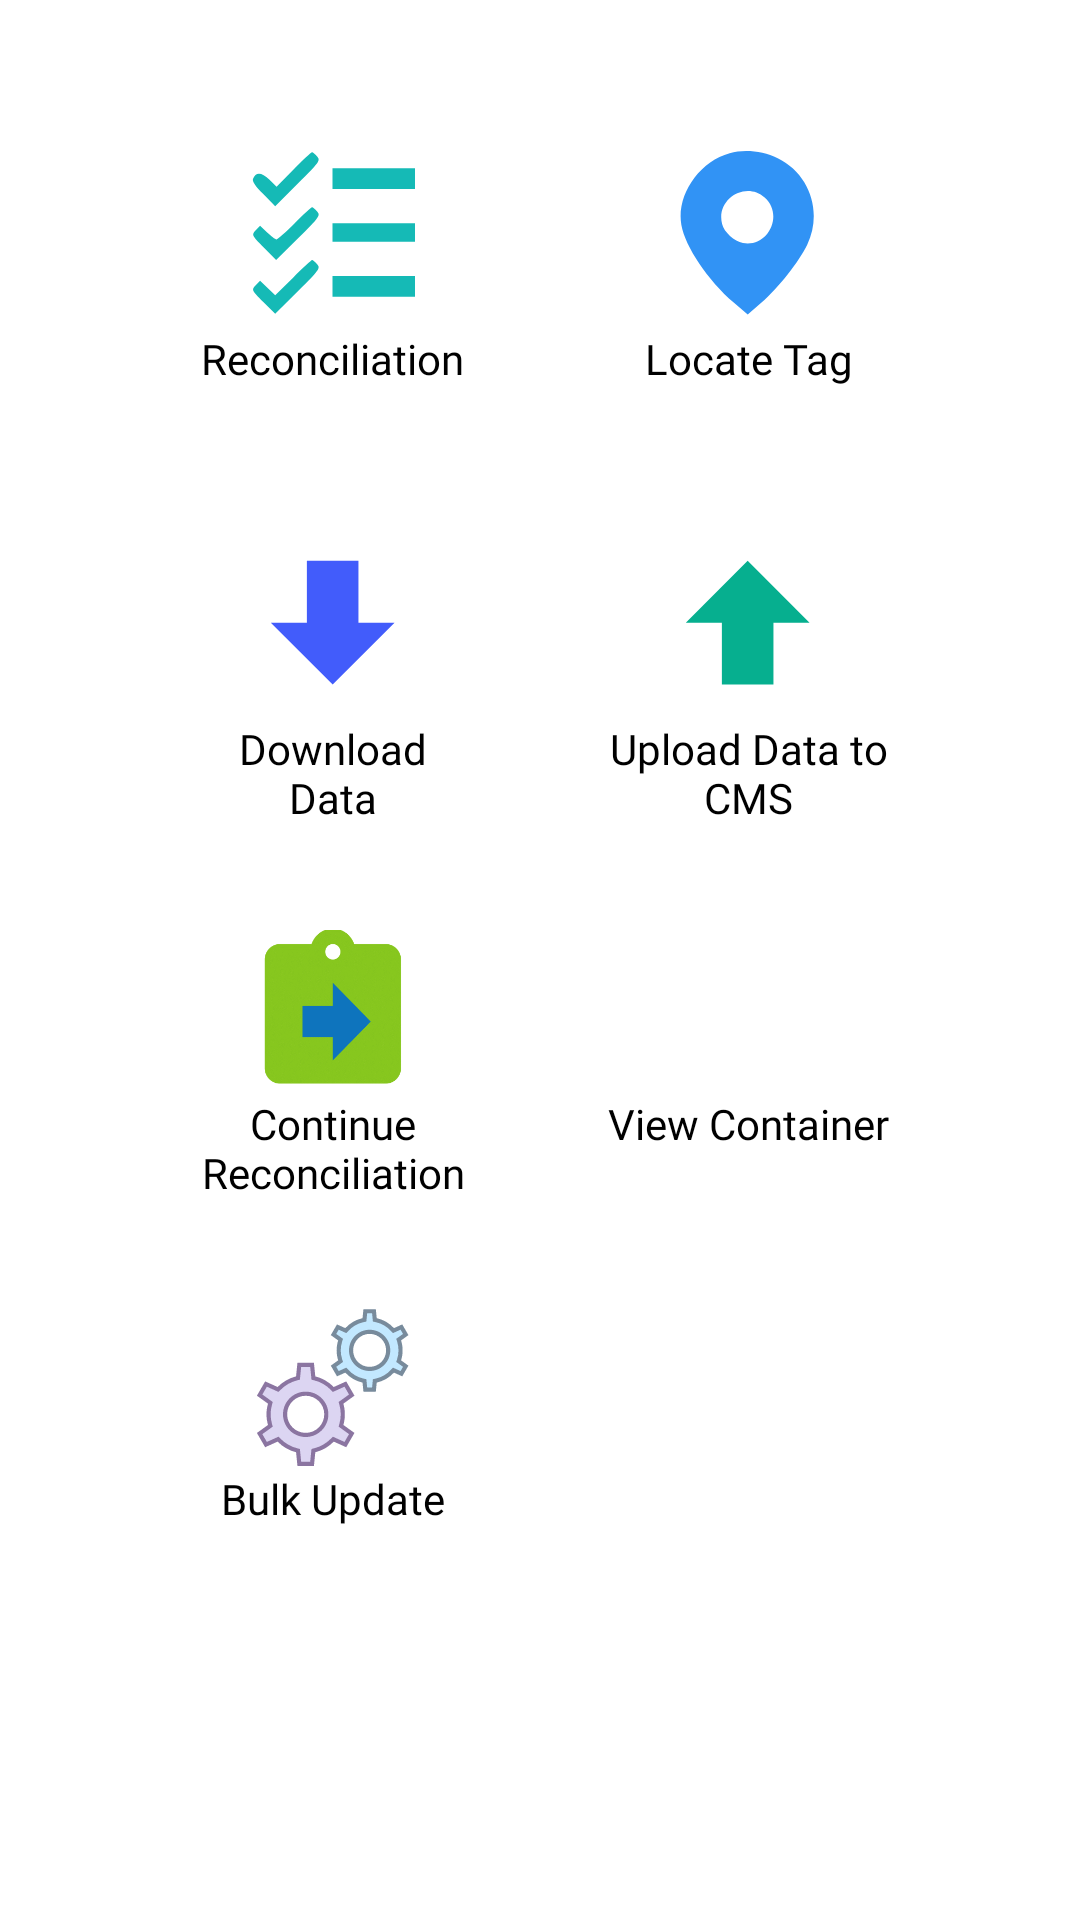

Icon bounding boxes for this 1080x1920 phone screenshot, format (x1, y1, x2, y2):
inv: (253, 152, 415, 314)
services: (257, 1309, 409, 1466)
